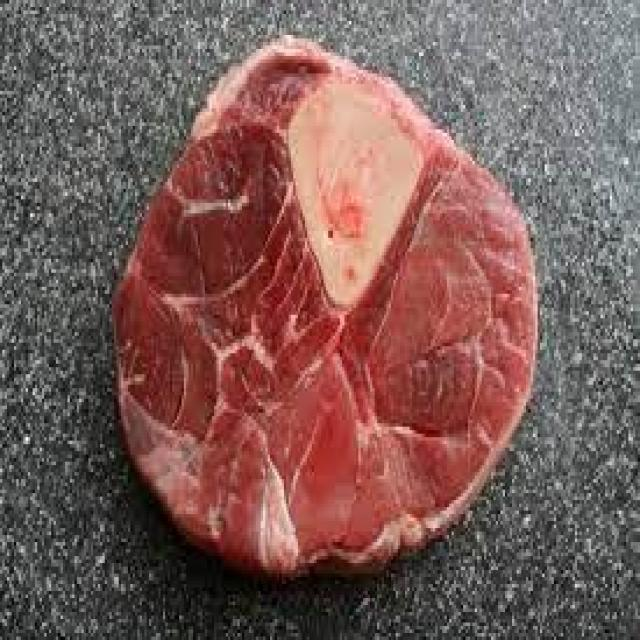Beef: (112, 12, 542, 584)
